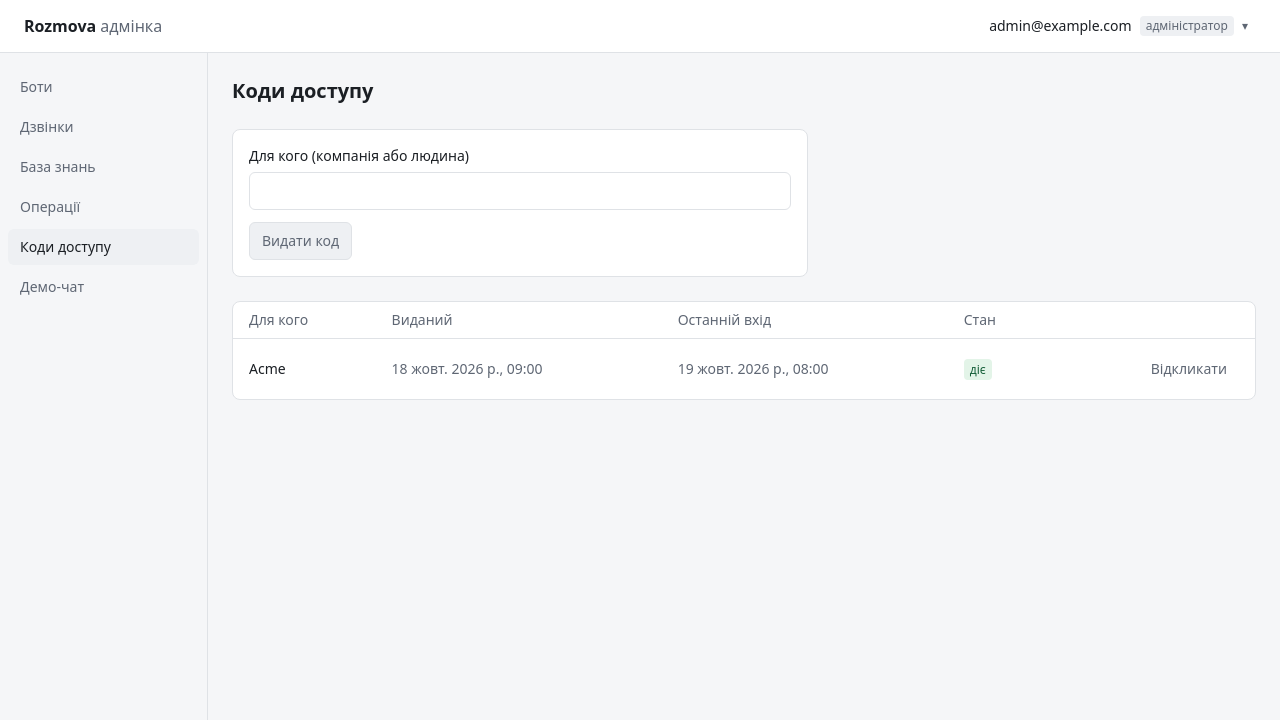
Test: an admin issues a code and sees it once
In the field labelled "Для кого (компанія або людина)": (520, 191) [249,172,791,210], type "  Globex "
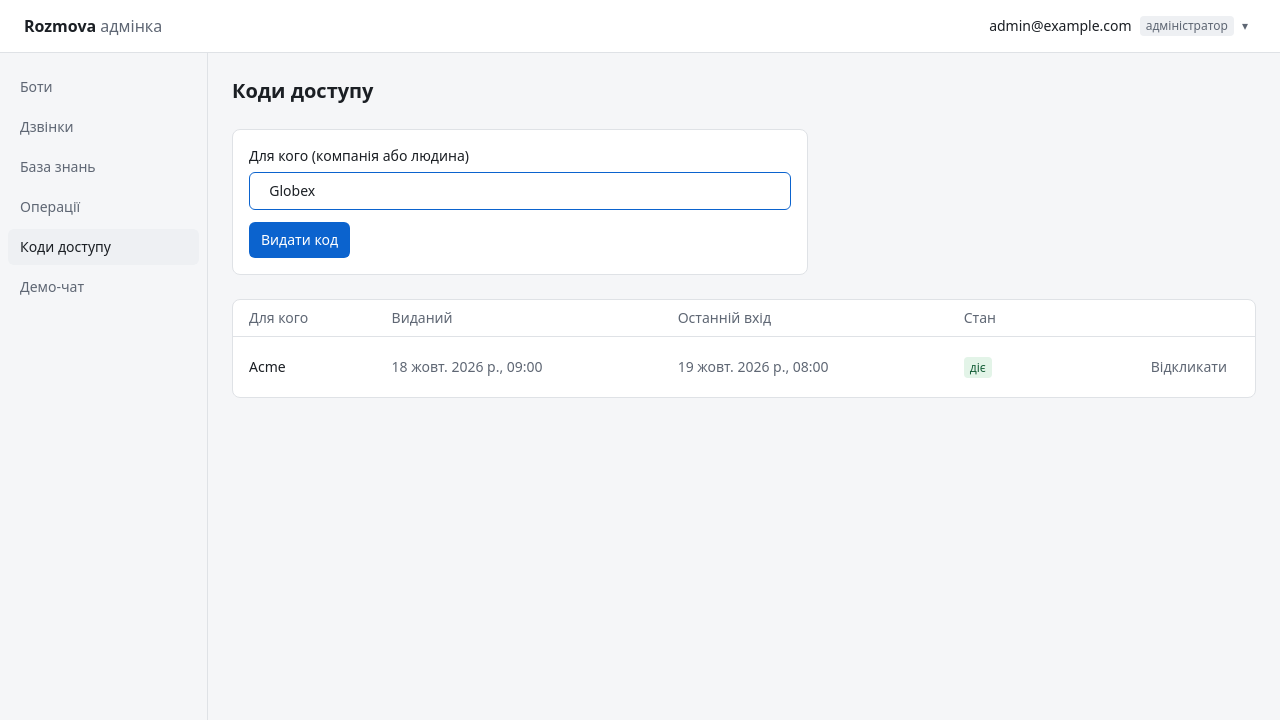
Click the button "Видати код": (300, 240) [249,222,350,258]
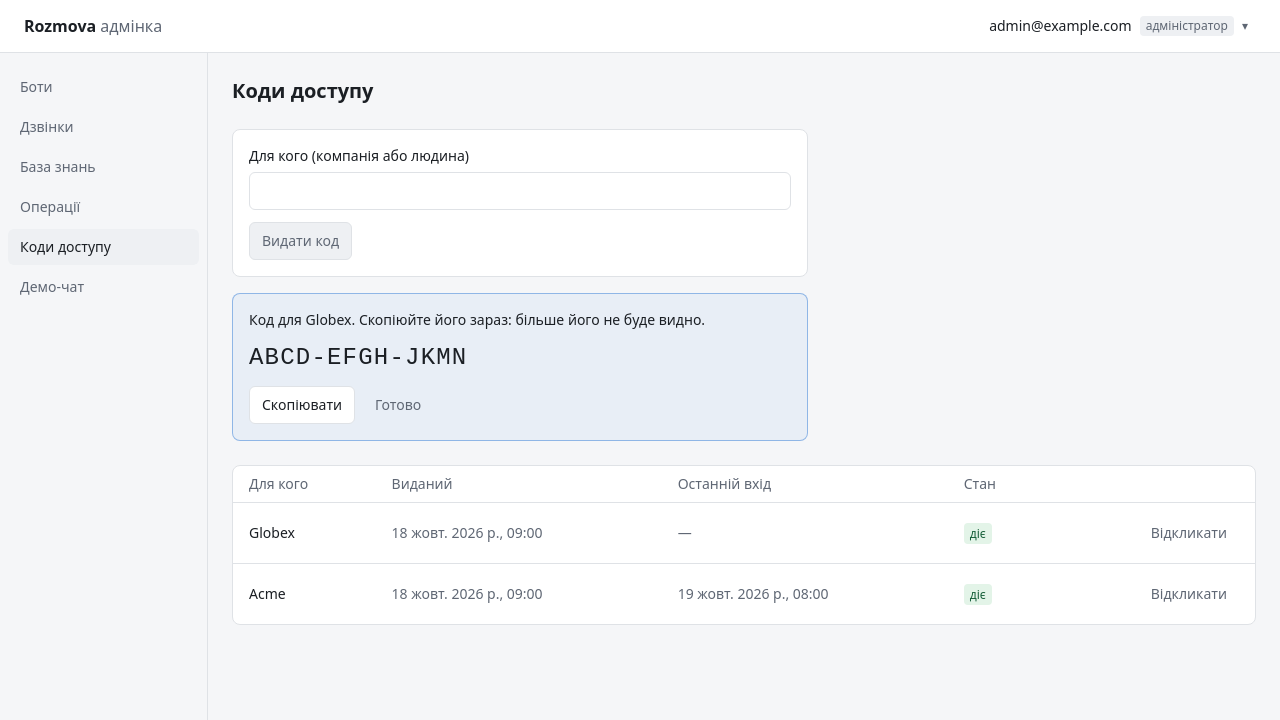
Expected: the message shows "ABCD-EFGH-JKMN", [249,344,467,371]
Expected: the message shows "більше його не буде видно", [352,310,705,329]
Expected: the row "Globex" is shown, [233,502,1255,564]
Click the button "Готово": (398, 405) [363,386,433,424]
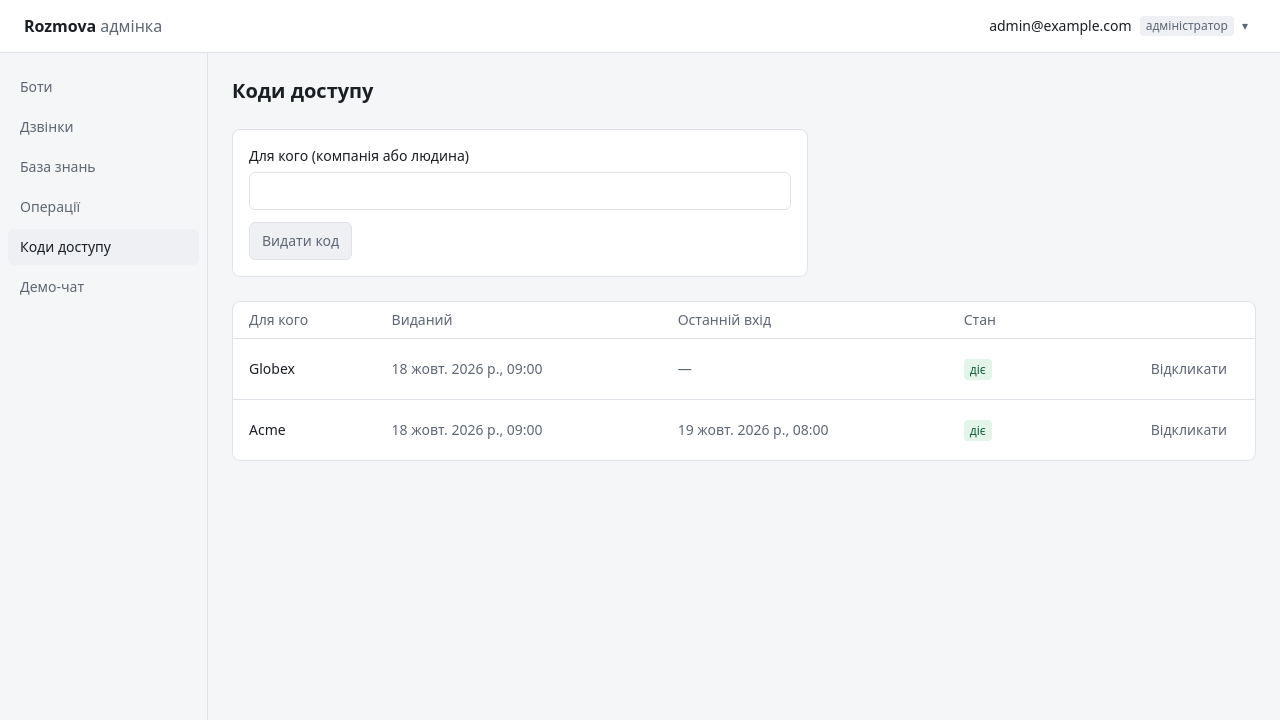
Expected: the text "ABCD-EFGH-JKMN" is gone
